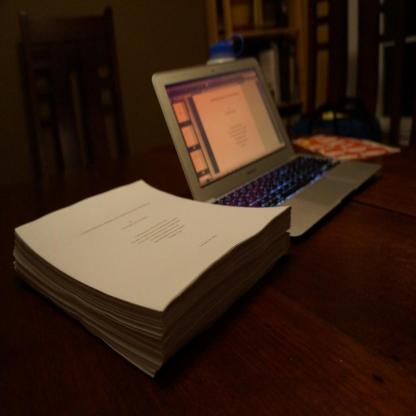board: (150, 56, 380, 243)
